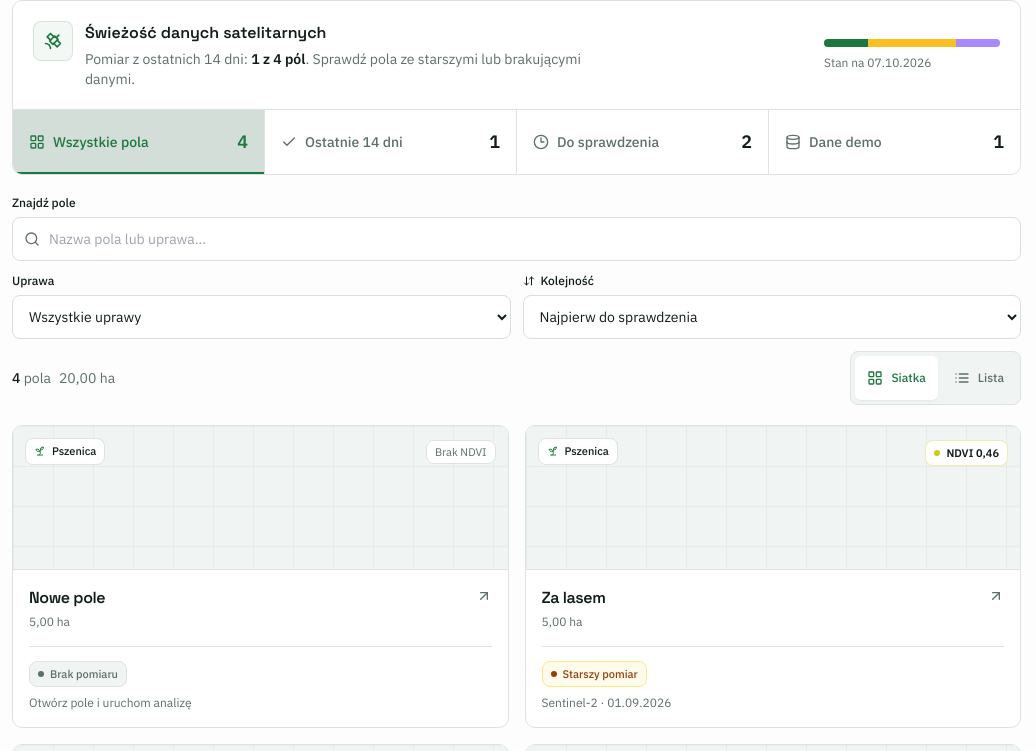
Test: field catalogue workflows › finds field names without diacritics and also searches Polish crop names
Type "laka zolta" into the search field labelled "Znajdź pole" at [516, 239], box left=12, top=217, right=1021, bottom=261
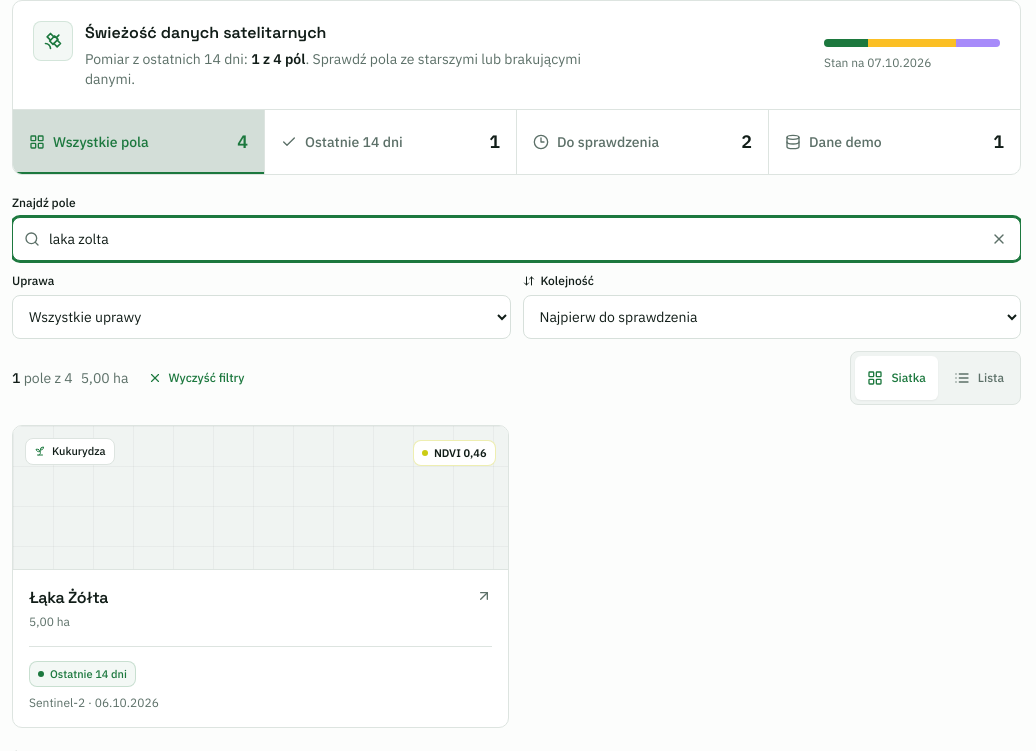
expect the number of links is 1: met, box left=12, top=425, right=508, bottom=728
Replace the text in the search field labelled "Znajdź pole" with "pszenica" at [516, 239], box left=12, top=217, right=1021, bottom=261
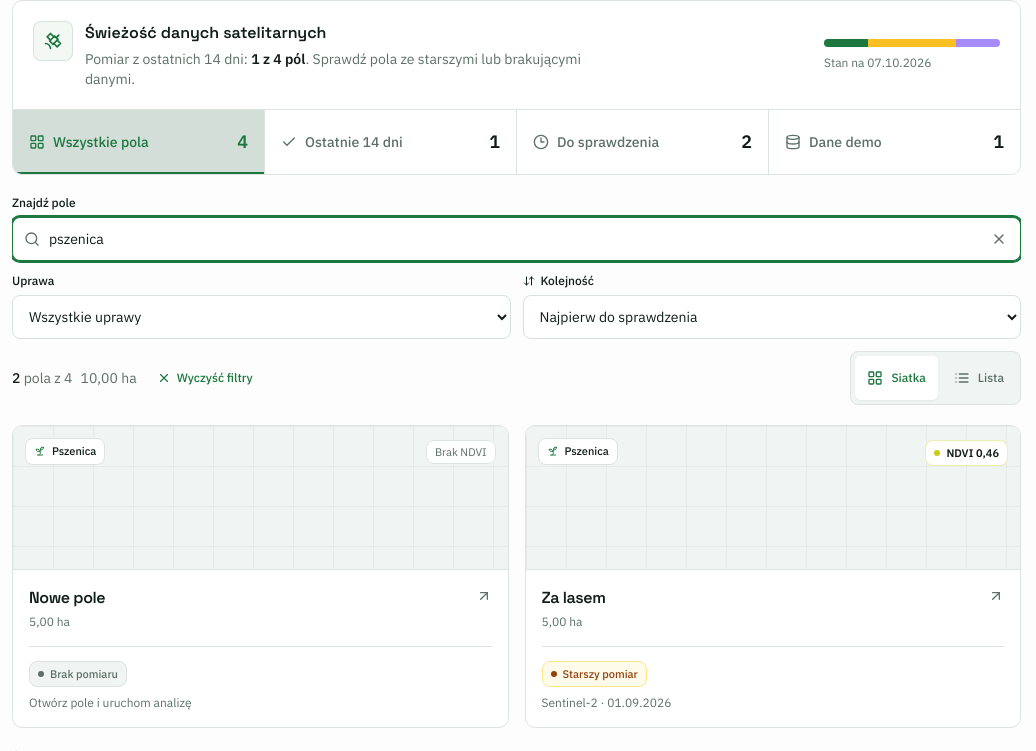
expect the number of links is 2: met, box left=12, top=425, right=508, bottom=728; left=524, top=425, right=1021, bottom=728
